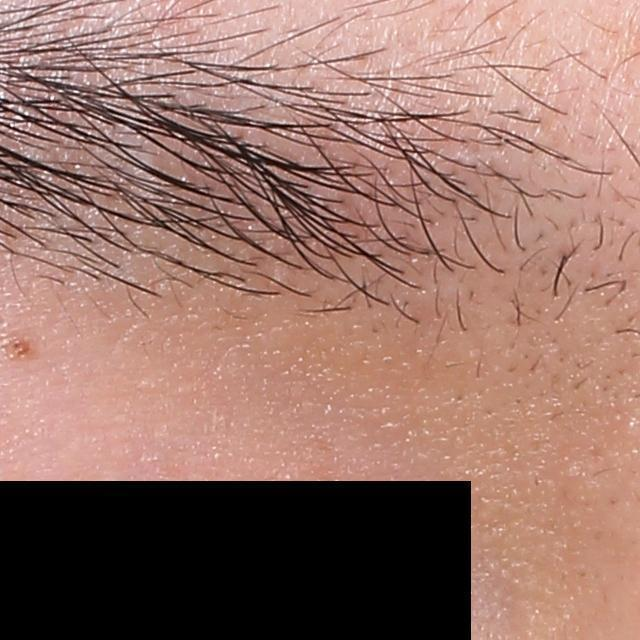nevus: (11, 334, 38, 366)
